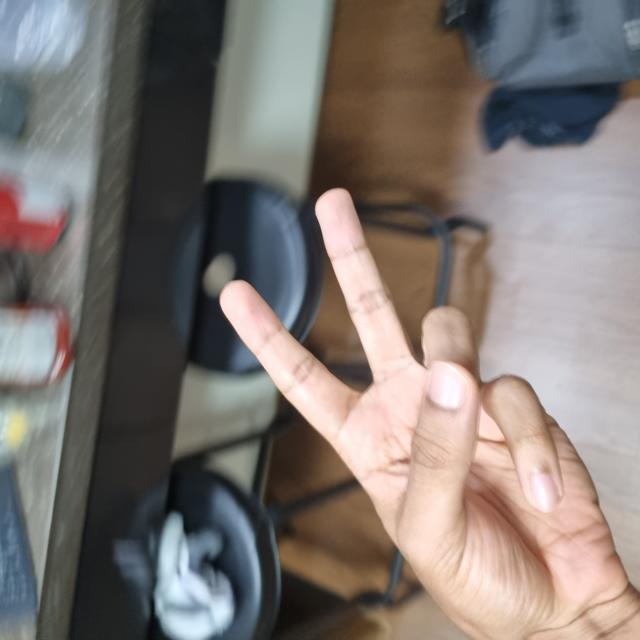Scissors: (3, 221, 445, 628)
